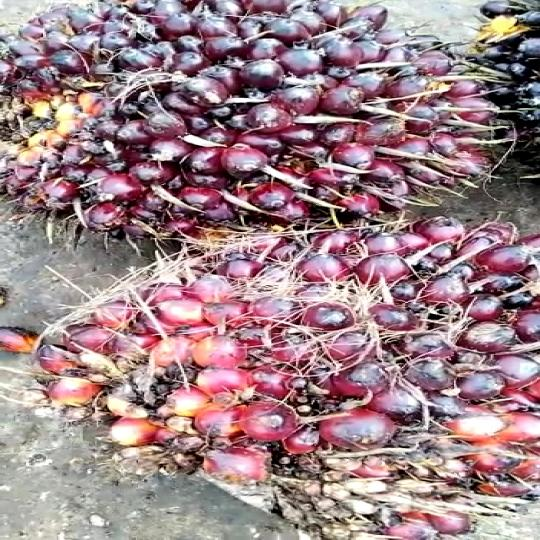kurang masak: (11, 218, 540, 540), (0, 0, 500, 234)
